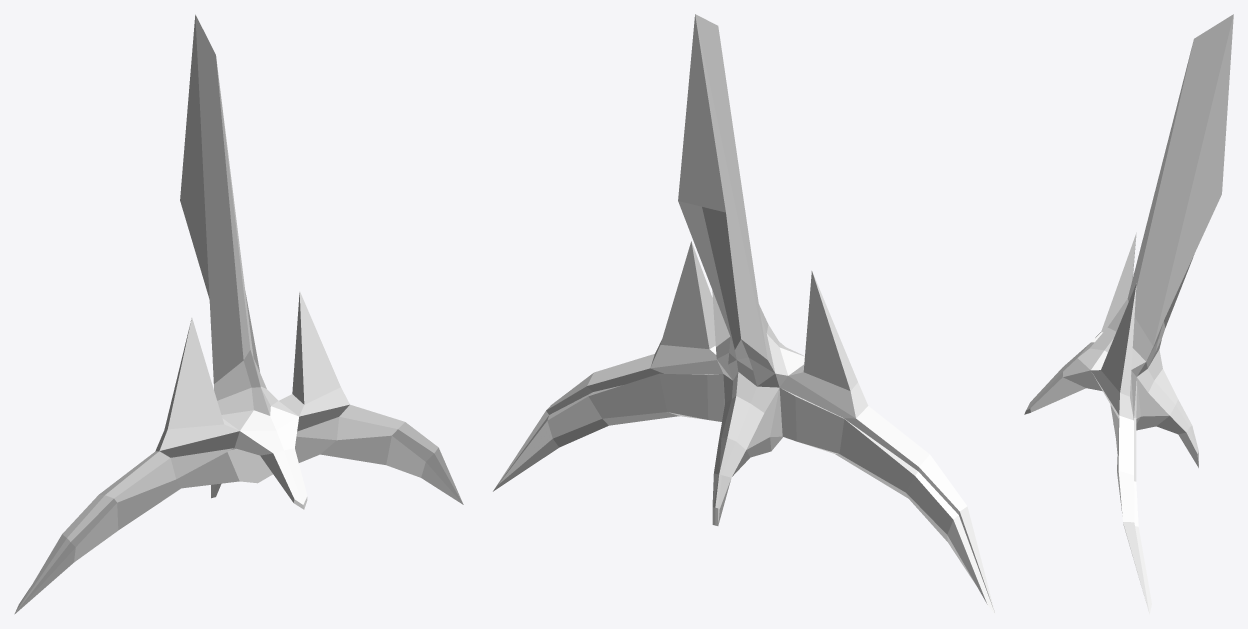
The model's file is head_48.fbx.
The picture shows the model from 3 angles, left to right: view 1: azimuth 30°, elevation 25°; view 2: azimuth 150°, elevation 25°; view 3: azimuth 270°, elevation 25°; orthographic projection. The views are drawn at different scales.
Parts seen in each view (by area): view 1: Cube.183; view 2: Cube.183; view 3: Cube.183.
Part boxes in pixels (x1,y1,x2,y2): Cube.183: (14, 14, 463, 614); Cube.183: (493, 14, 995, 614); Cube.183: (1024, 14, 1233, 614).
Size of the model in its own units: 216 by 236 by 90.58.
